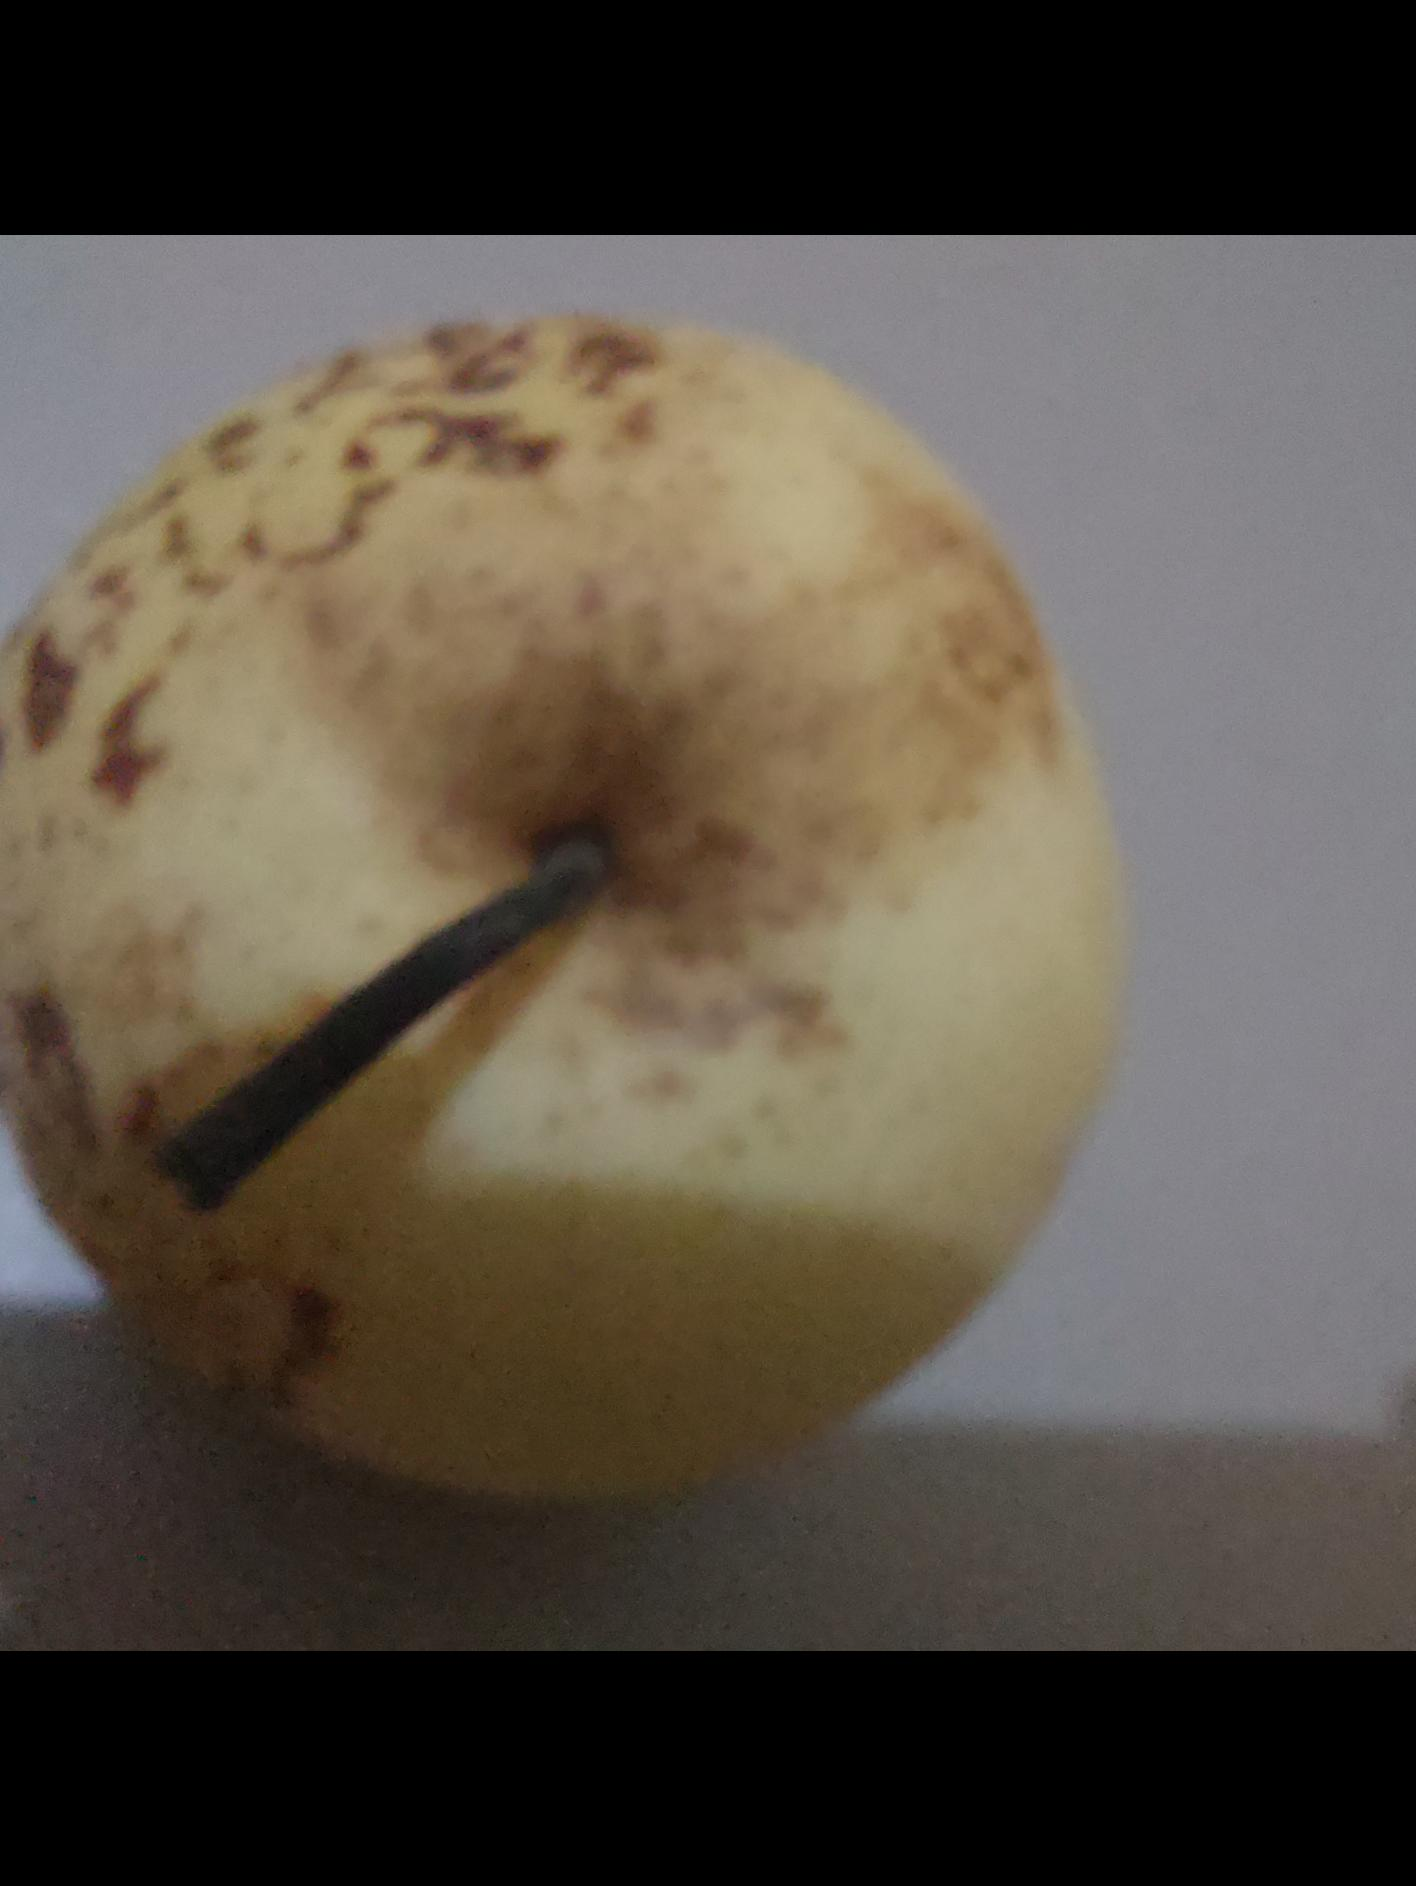Bad Pear: (0, 333, 1092, 1490)
